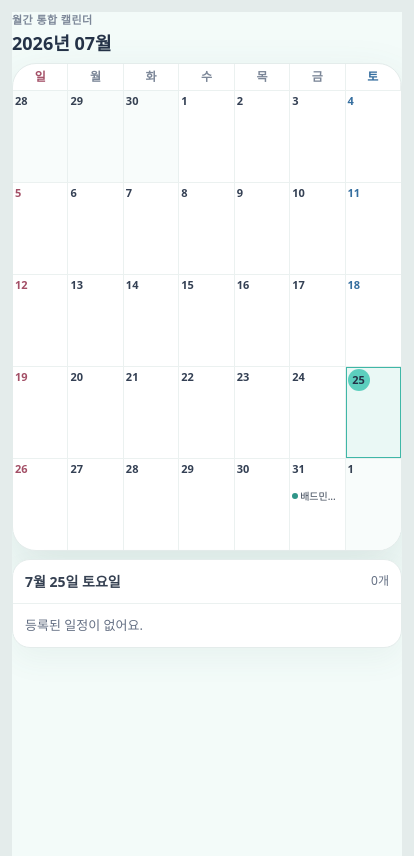
BriefingMonthOverview › shows readable events below the month after selecting a date
Click the button named "2026-07-31 선택" at (317, 475), box [292, 461, 342, 489]
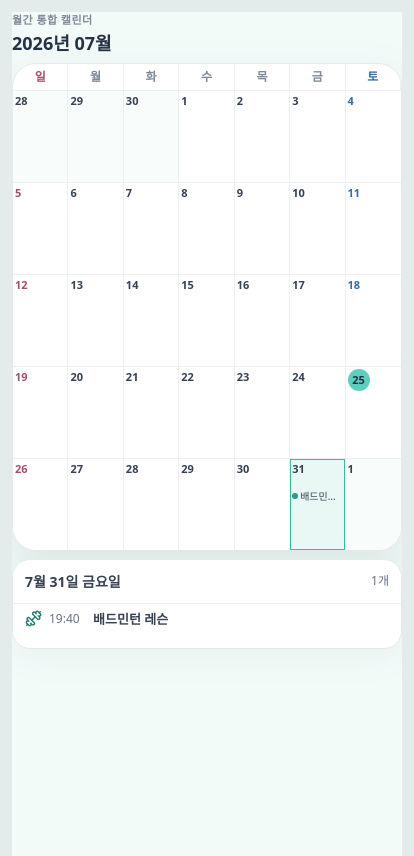
expect the element named "7월 31일 금요일 일정" shows "19:40": met, box [13, 604, 401, 648]
expect the element named "7월 31일 금요일 일정" shows "배드민턴 레슨": met, box [13, 604, 401, 648]
